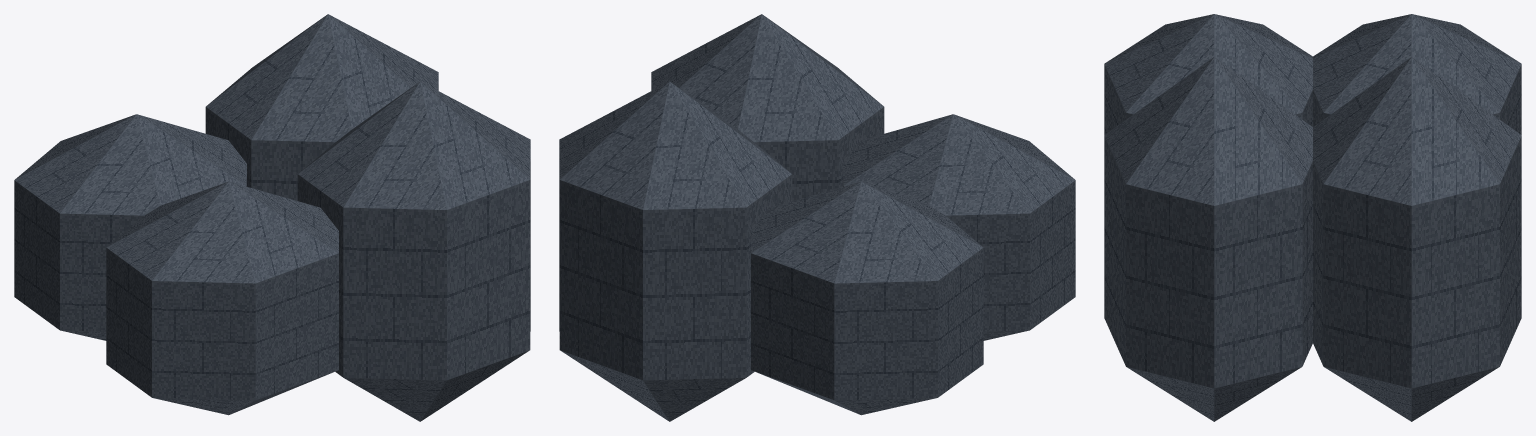
Rendered from rocks.glb.
The picture shows the model from 3 angles, left to right: view 1: azimuth 30°, elevation 25°; view 2: azimuth 150°, elevation 25°; view 3: azimuth 270°, elevation 25°; orthographic projection. The views are drawn at different scales.
Visible parts, largest first — view 1: rock (×4); view 2: rock (×4); view 3: rock (×4).
Part boxes in pixels (left/top/right/bottom): rock (×4): left=14, top=14, right=530, bottom=421; rock (×4): left=559, top=14, right=1075, bottom=421; rock (×4): left=1104, top=14, right=1521, bottom=421.
Bounding box in the file's own units: 1.26 × 1.02 × 1.06.
Materials: 1 (1 with a texture image).
